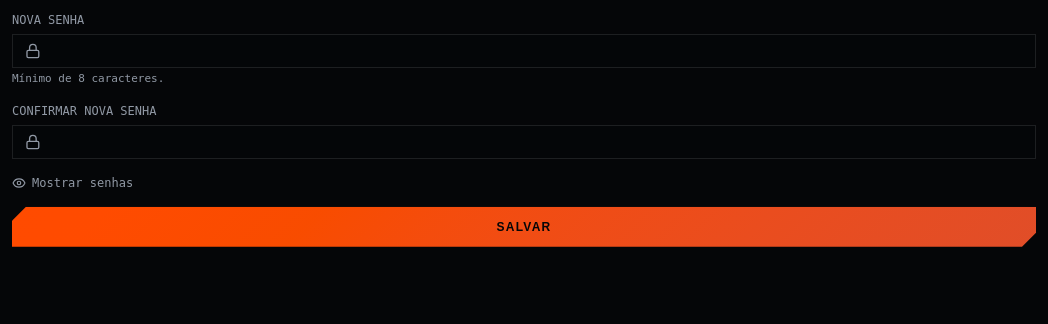
Scenario: PasswordForm › não envia quando as senhas diferem
Step 1. Type "senha-boa-1" into the password field labelled "NOVA SENHA" → (532, 51), box top-left (41, 35), bottom-right (1023, 67)
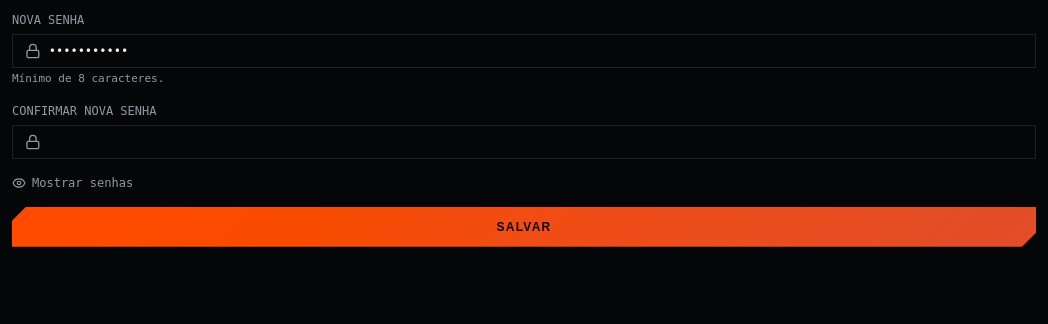
Step 2. Type "senha-boa-2" into the password field labelled "CONFIRMAR NOVA SENHA" → (532, 142), box top-left (41, 126), bottom-right (1023, 158)
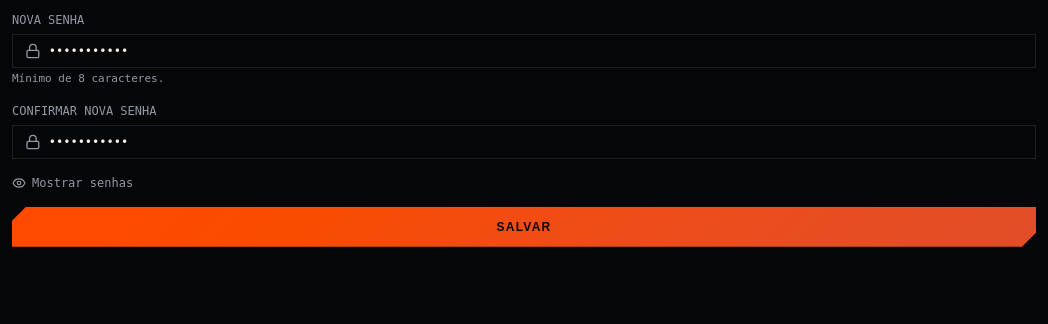
Step 3. Click the button "Salvar" → (524, 227), box top-left (12, 207), bottom-right (1036, 247)
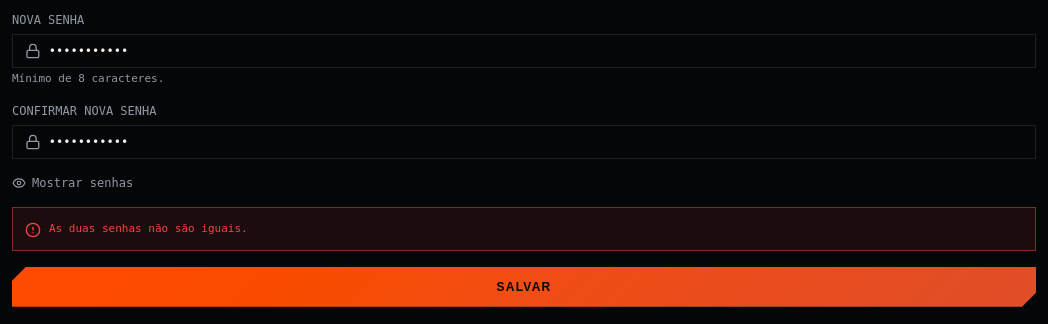
Check: the message shows "não são iguais", box top-left (49, 222), bottom-right (248, 235)
